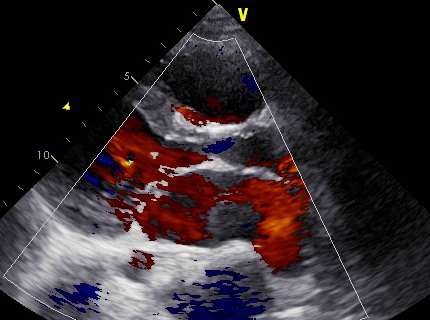AR: (157, 125, 268, 195)
